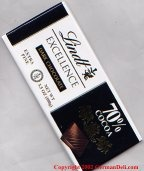grozi_65: (2, 2, 142, 170)
